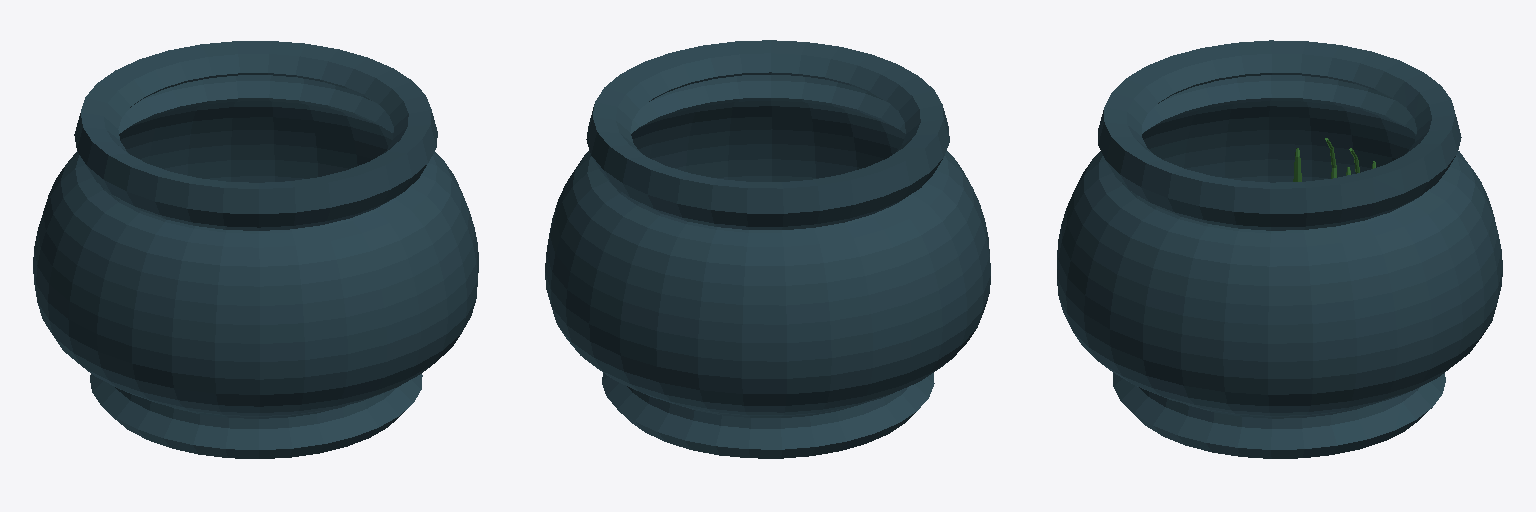
The model's file is FishBowl_Vines-V2.obj.
3 views of the same model, side by side, from view 1: azimuth 30°, elevation 25°; view 2: azimuth 150°, elevation 25°; view 3: azimuth 270°, elevation 25° (orthographic).
Parts seen in each view (by area): view 1: FishBowl; view 2: FishBowl; view 3: FishBowl.
Part boxes in pixels (left/top/right/bottom): FishBowl: left=33, top=41, right=478, bottom=458; FishBowl: left=545, top=40, right=990, bottom=458; FishBowl: left=1057, top=40, right=1502, bottom=458.
Size of the model in its own units: 31.46 by 21.95 by 31.42.